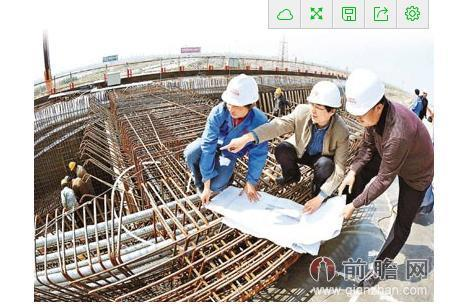helmet: (344, 66, 386, 119), (223, 71, 260, 109), (307, 80, 343, 111), (69, 163, 78, 172), (62, 180, 69, 188)
